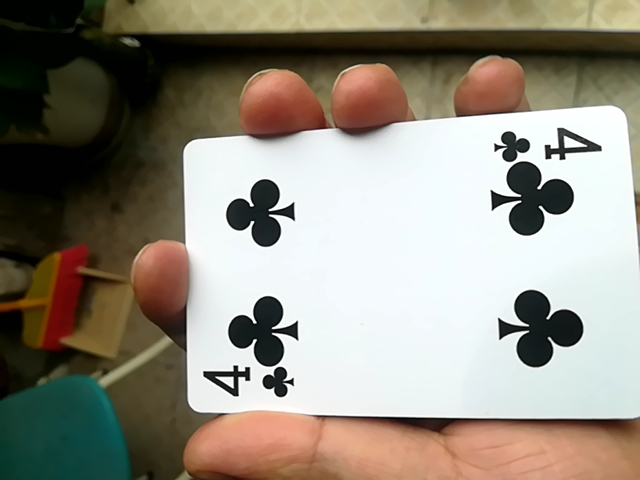mh 4: (160, 112, 636, 429)
